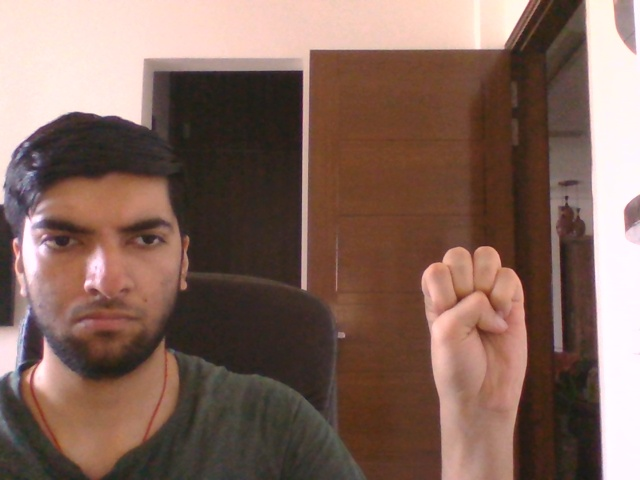LetterS: (418, 243, 531, 416)
